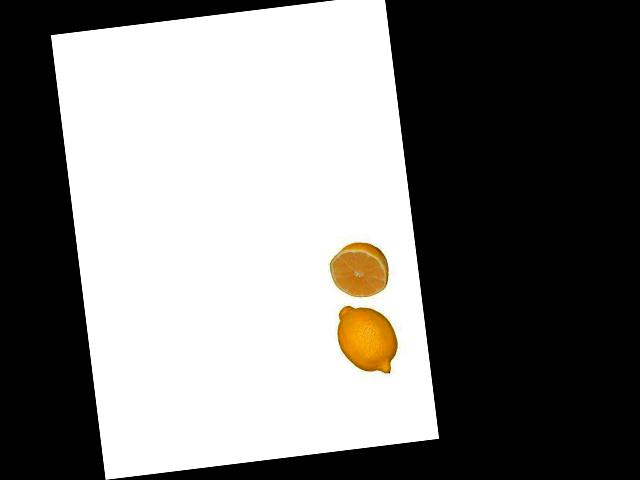lemon: (336, 298, 399, 381)
